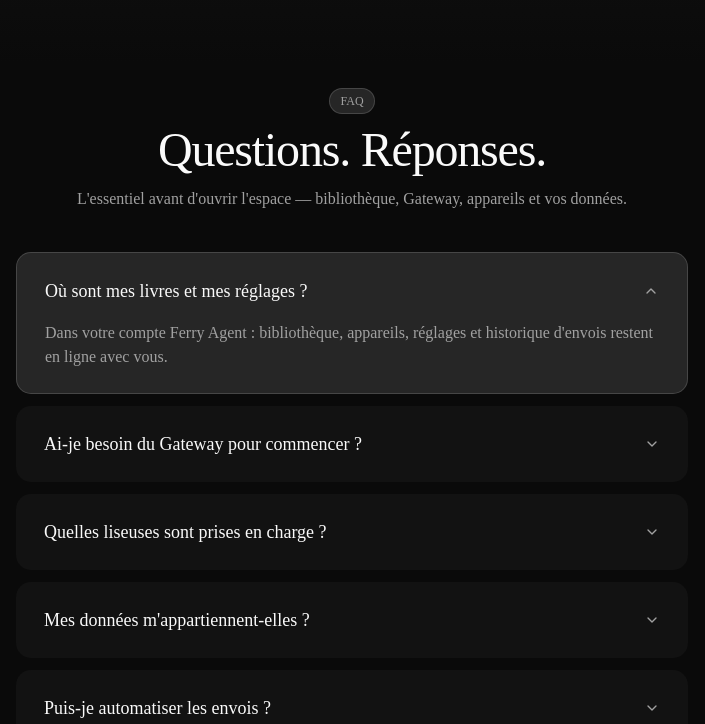
Test: UI harness — landing FAQ + footer Pen › renders five FAQ questions in Pen order with single-open accordion
The width and height of the screenshot is (705, 724).
Check: the element with test id "landing-faq" shows "Dans votre compte Ferry Agent : bibliothèque, appareils, réglages et historique d'envois restent en ligne avec vous.", box [45, 324, 653, 365]
Click the button "Ai-je besoin du Gateway pour commencer ?".
click(352, 444)  # box [44, 430, 660, 458]
(page scrolled)
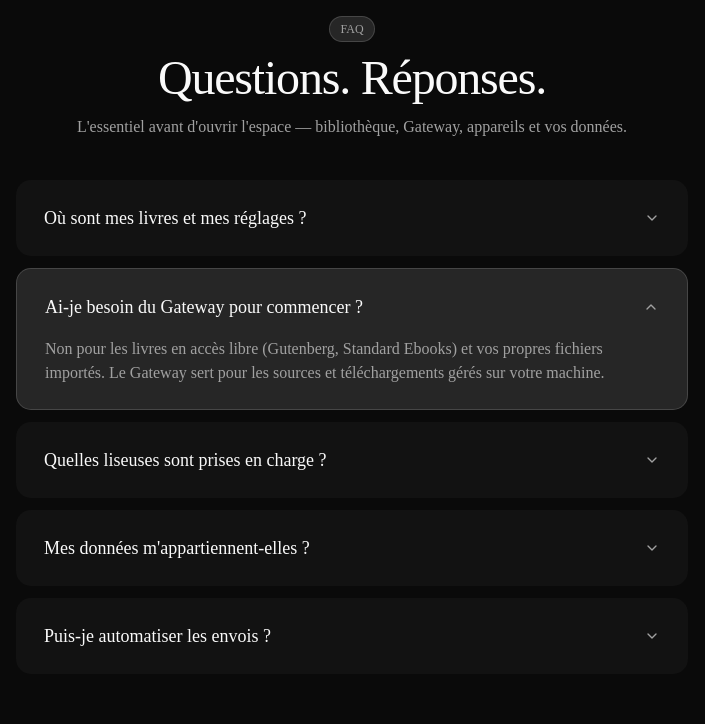
Check: the button "Où sont mes livres et mes réglages ?" is collapsed, box [44, 204, 660, 232]
Check: the button "Ai-je besoin du Gateway pour commencer ?" is expanded, box [45, 293, 659, 321]
Check: the element with test id "landing-faq" shows "Non pour les livres en accès libre (Gutenberg, Standard Ebooks) et vos propres fichiers importés. Le Gateway sert pour les sources et téléchargements gérés sur", box [45, 340, 604, 381]
